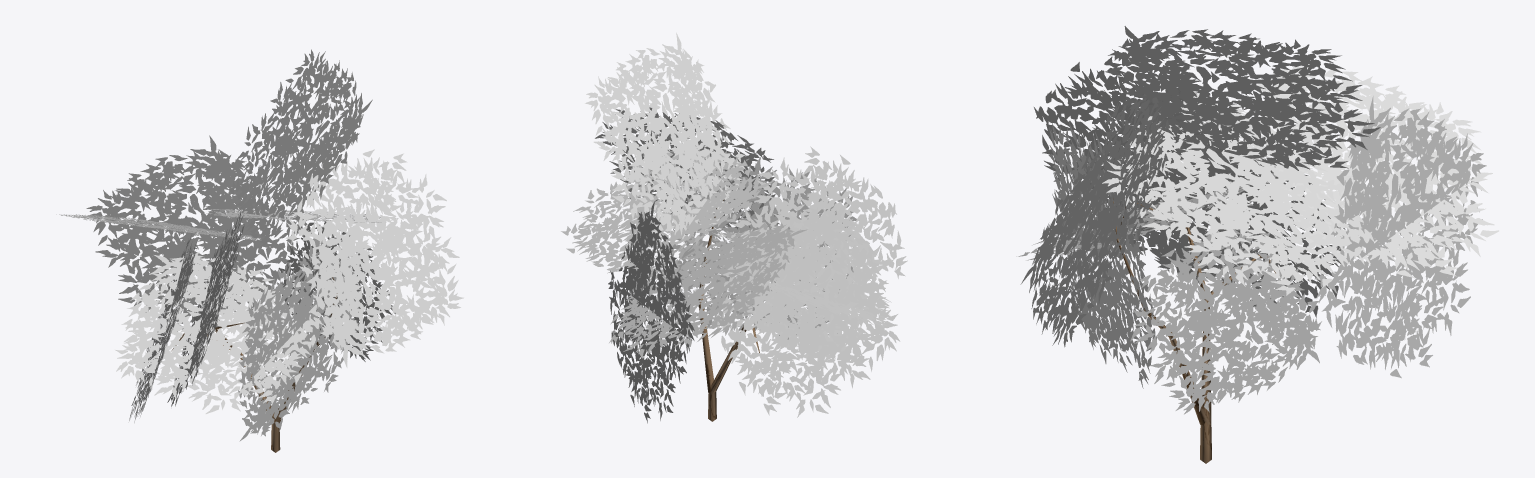
File: P_BUSH.fbx
3 views of the same model, side by side, from view 1: azimuth 30°, elevation 25°; view 2: azimuth 150°, elevation 25°; view 3: azimuth 270°, elevation 25° (orthographic). The views are drawn at different scales.
Visible parts, largest first — view 1: Plane.005, Trunk02; view 2: Plane.005, Trunk02; view 3: Plane.005, Trunk02.
Part boxes in pixels (left/top/right/bottom): Plane.005: left=56, top=49, right=463, bottom=441; Trunk02: left=171, top=277, right=337, bottom=452; Plane.005: left=561, top=32, right=907, bottom=423; Trunk02: left=698, top=199, right=761, bottom=421; Plane.005: left=1016, top=26, right=1498, bottom=414; Trunk02: left=1113, top=198, right=1275, bottom=463.
Size of the model in its own units: 73.35 by 69.28 by 70.39.
